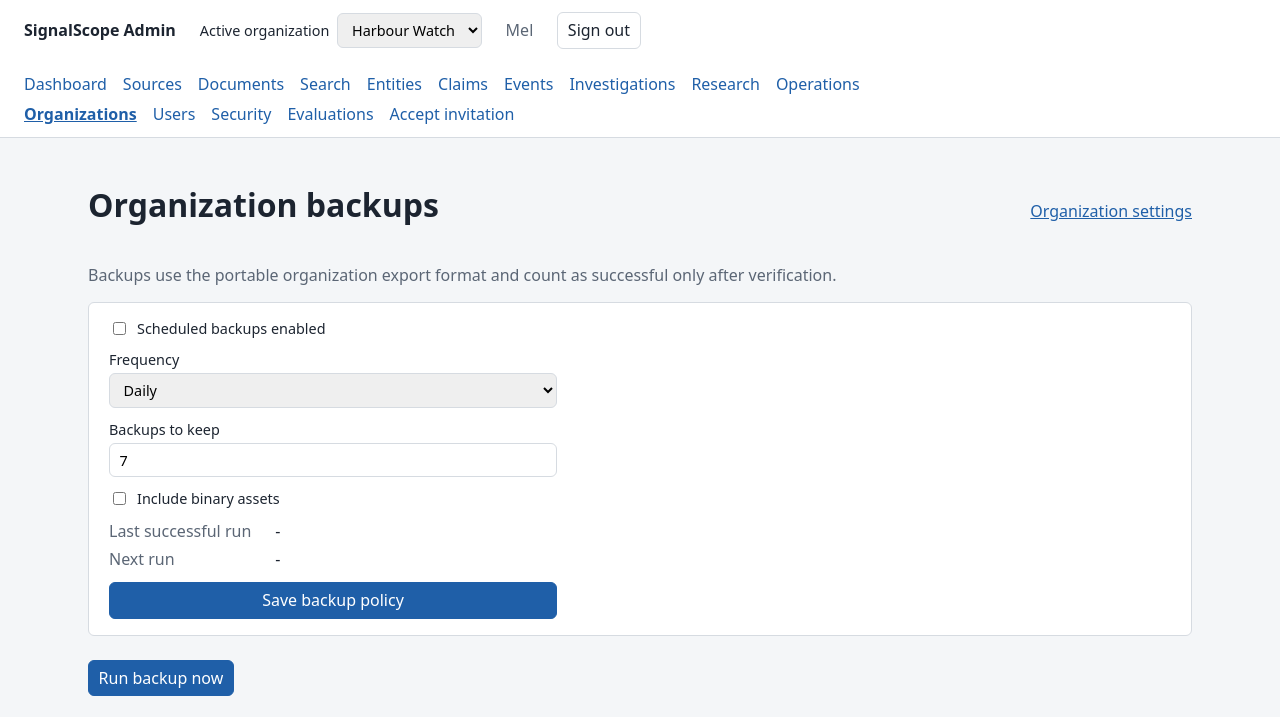
organization backups › runs a backup and distinguishes verified and failed results
Expected: the text "Verified" is not shown
Click the button "Run backup now" at (161, 678), box [88, 660, 234, 696]
(page scrolled)
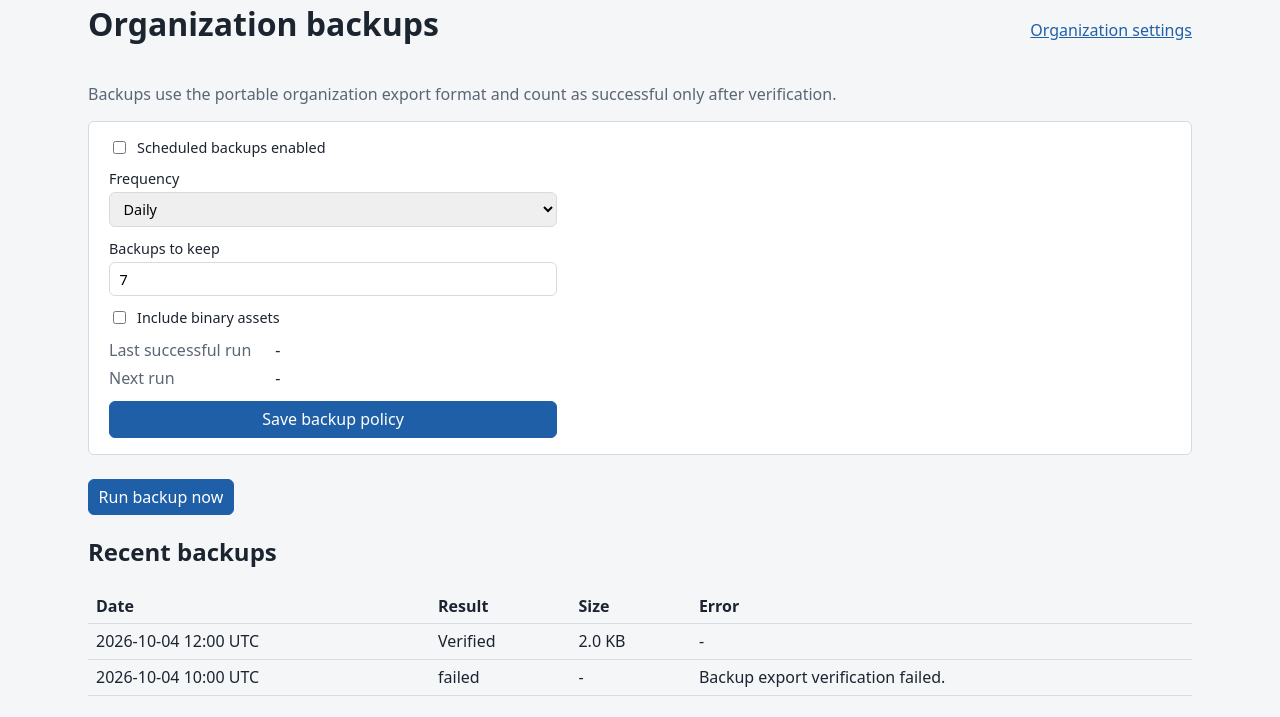
Result: the text "Verified" is shown at [430, 624, 570, 659]
Result: the text "2.0 KB" is shown at [570, 624, 691, 659]
